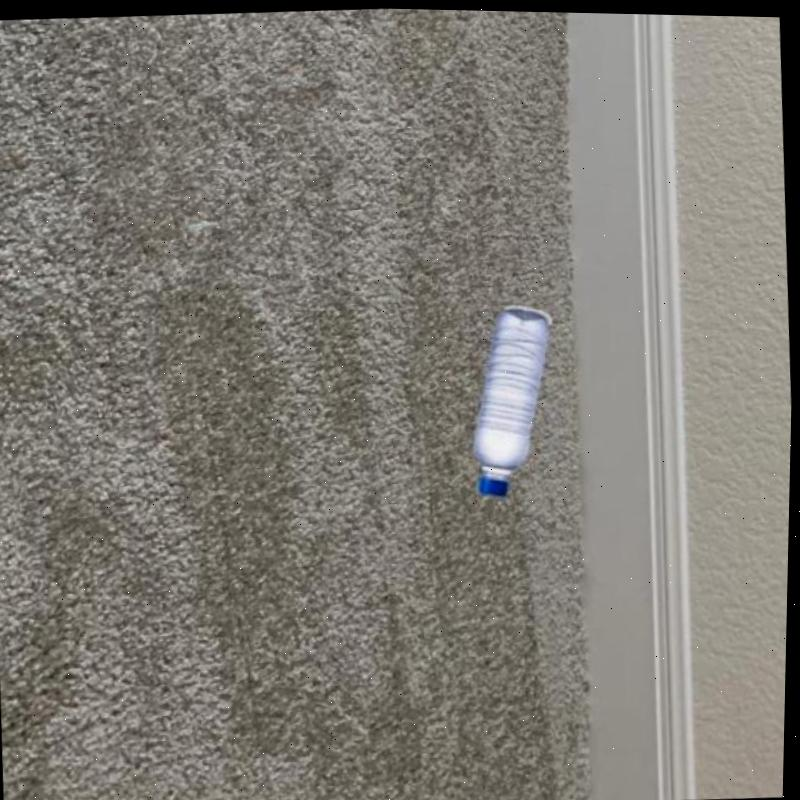botella: (455, 297, 569, 499)
